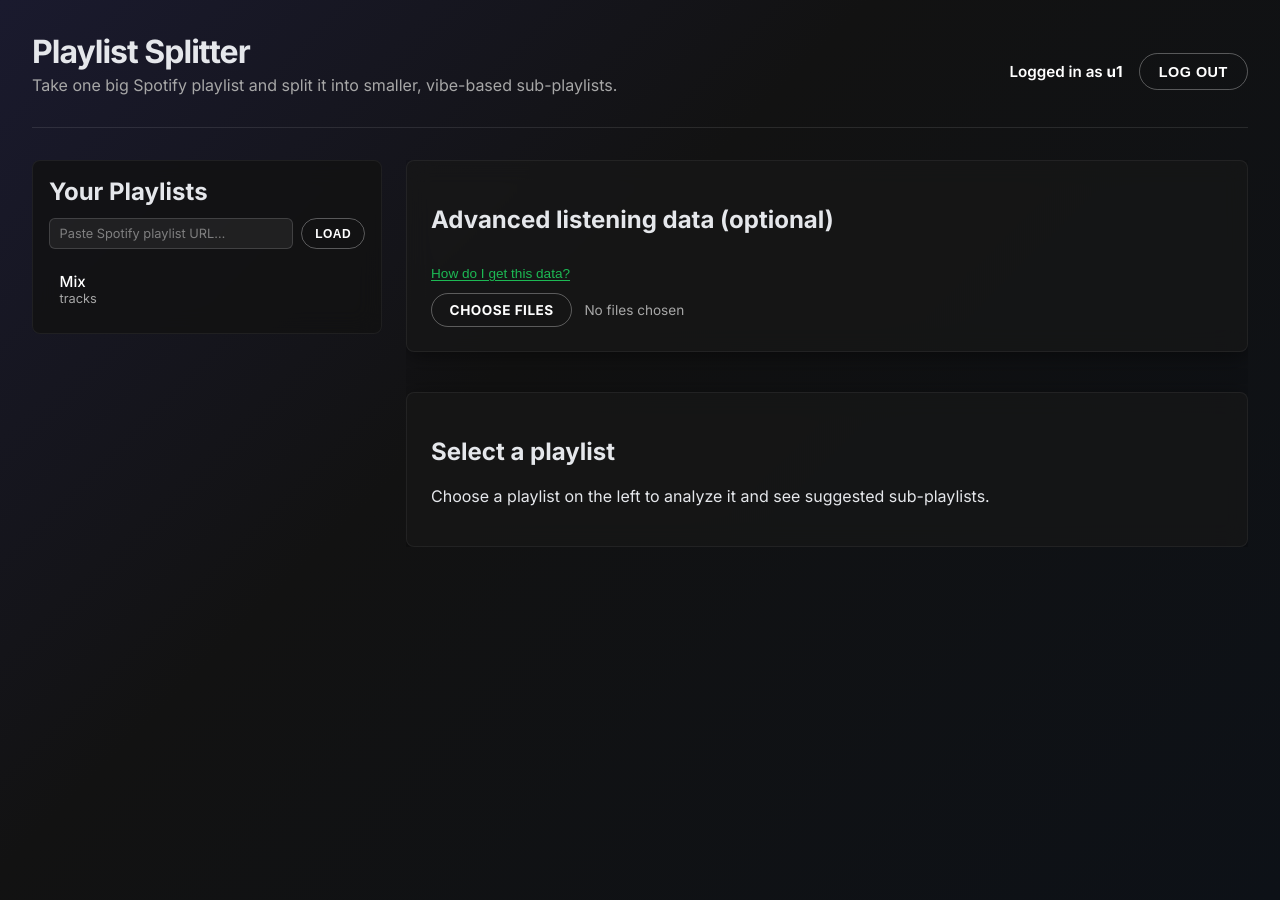
Scenario: Quota UI › when quota is exhausted from the very first response, the pill highlights and button disables
This screenshot has width=1280, height=900.
Click the text "Mix" at (73, 282), box [60,272,86,291]
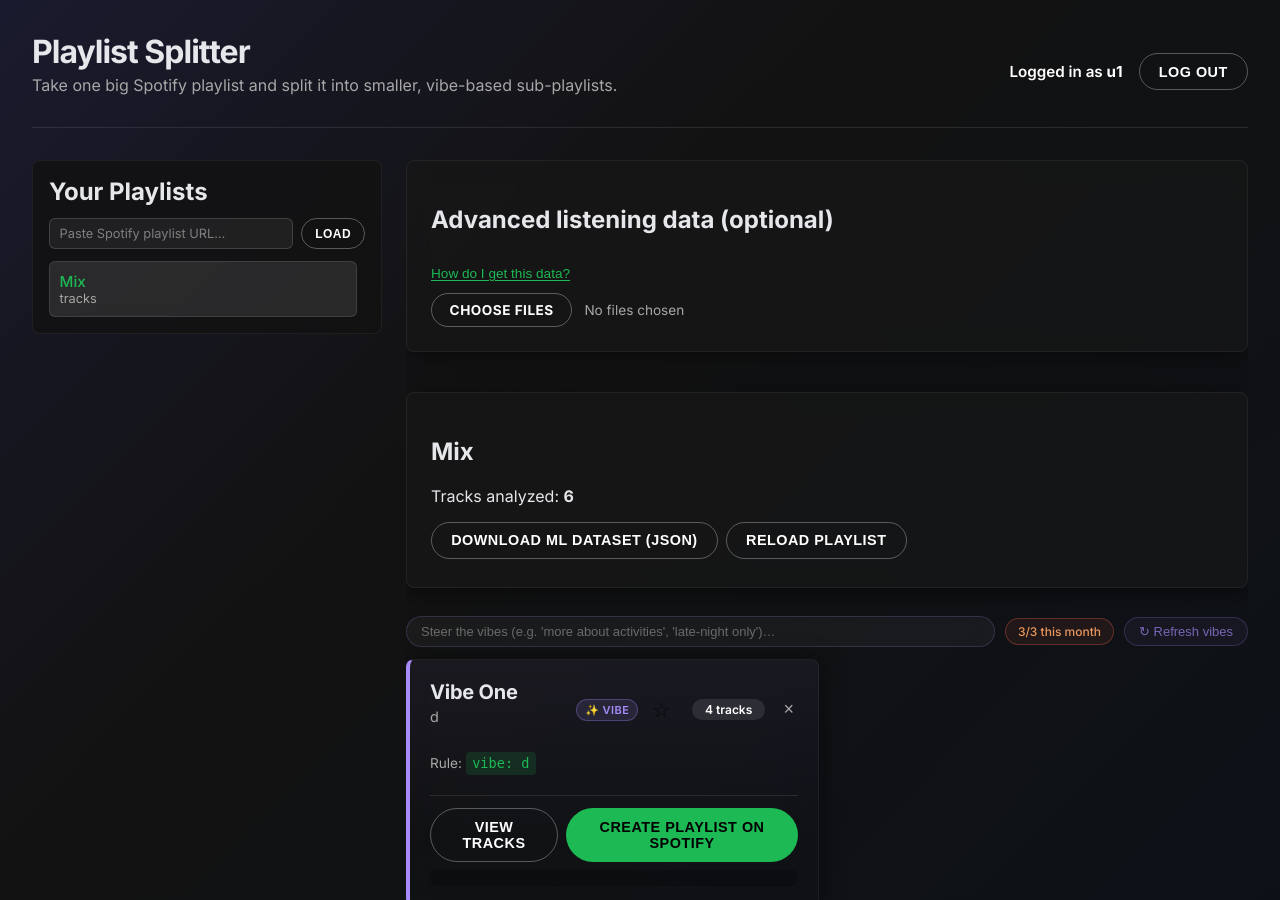
Expected: the heading "Vibe One" is shown, [430,680,518,705]
Expected: the button "↻ Refresh vibes" is disabled, [1124,617,1248,646]
